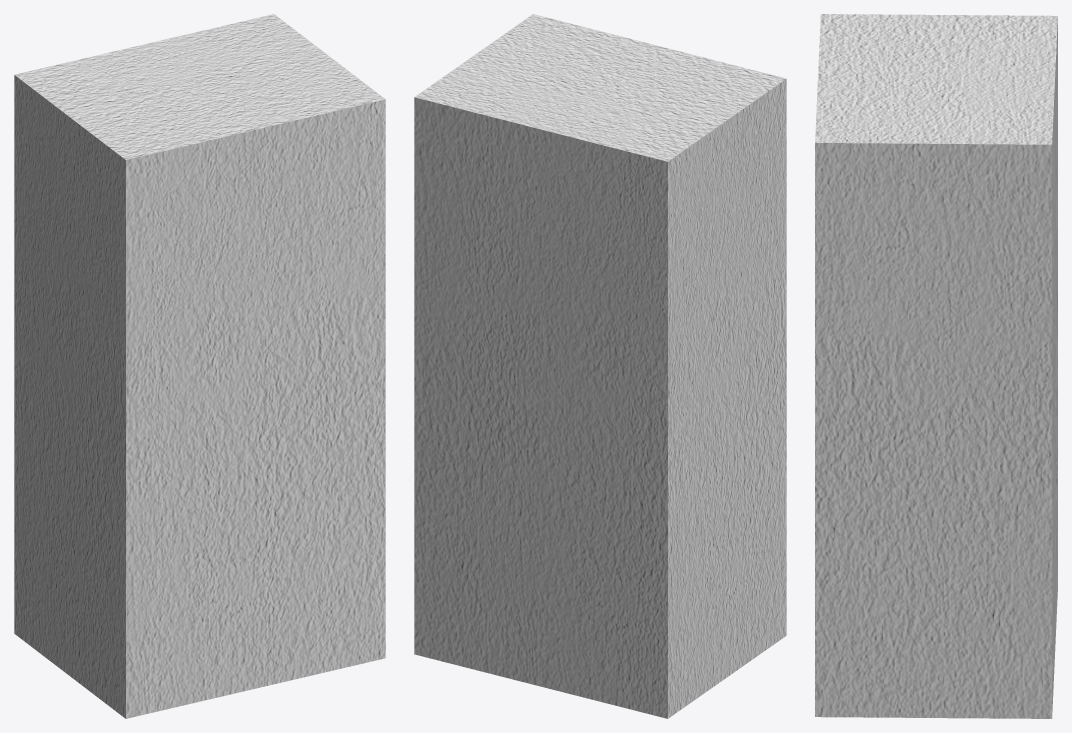
Rendered from wwwunderkammer_Regina_Asset_projectorWhite.glb.
3 renders of one model, left to right at view 1: azimuth 30°, elevation 25°; view 2: azimuth 150°, elevation 25°; view 3: azimuth 270°, elevation 25°, orthographic. The views are drawn at different scales.
Visible parts, largest first — view 1: pedestal; view 2: pedestal; view 3: pedestal.
Boxes of the visible parts, left/top/right/bottom form: pedestal: left=14, top=14, right=385, bottom=718; pedestal: left=414, top=14, right=786, bottom=718; pedestal: left=815, top=14, right=1057, bottom=718.
Bounding box in the file's own units: 1.2 × 2.46 × 0.9445.
Materials: 1 (1 with a texture image).
